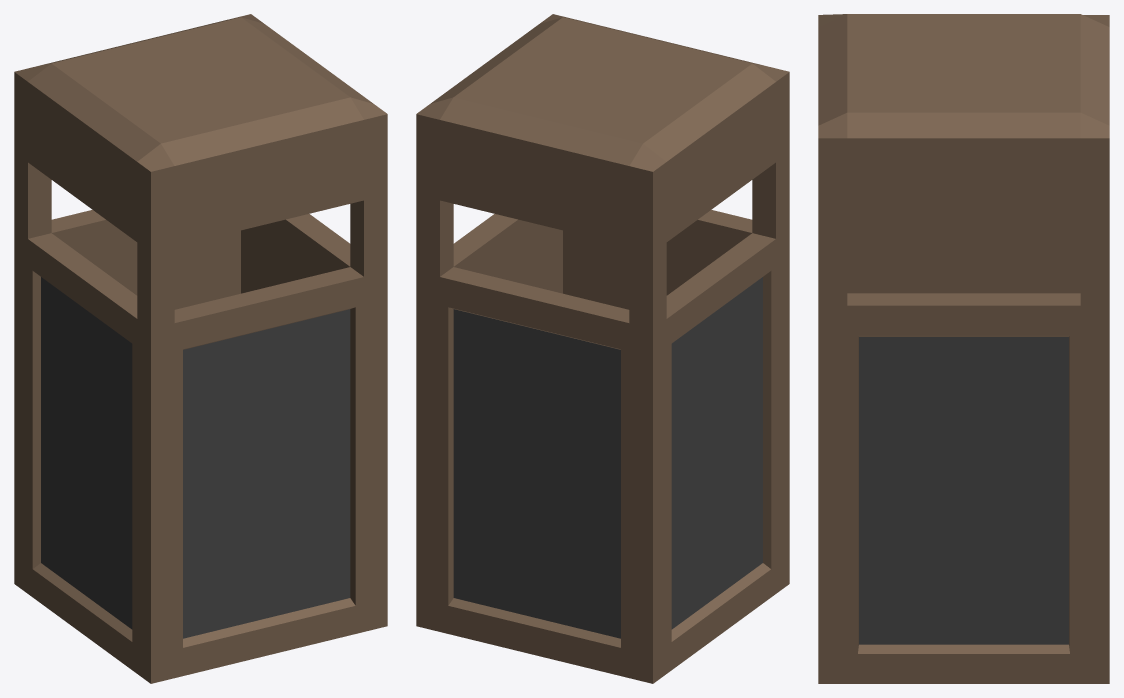
The model's file is Garbage Can 2.fbx.
3 views of the same model, side by side, from view 1: azimuth 30°, elevation 25°; view 2: azimuth 150°, elevation 25°; view 3: azimuth 270°, elevation 25° (orthographic). The views are drawn at different scales.
Visible parts, largest first — view 1: News_Box_1___Copy_pCube7; view 2: News_Box_1___Copy_pCube7; view 3: News_Box_1___Copy_pCube7.
Boxes of the visible parts, box(x1,y1,x2,y2) form: News_Box_1___Copy_pCube7: box(14, 14, 387, 683); News_Box_1___Copy_pCube7: box(416, 14, 789, 683); News_Box_1___Copy_pCube7: box(818, 14, 1109, 683).
Bounding box in the file's own units: 0.6168 × 1.31 × 0.6168.
